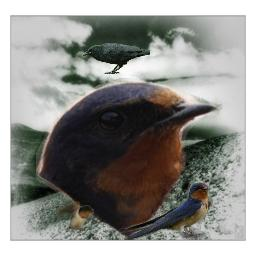Crow: (82, 43, 150, 75)
Swallow: (36, 78, 224, 240), (111, 181, 213, 240), (56, 201, 94, 232)
